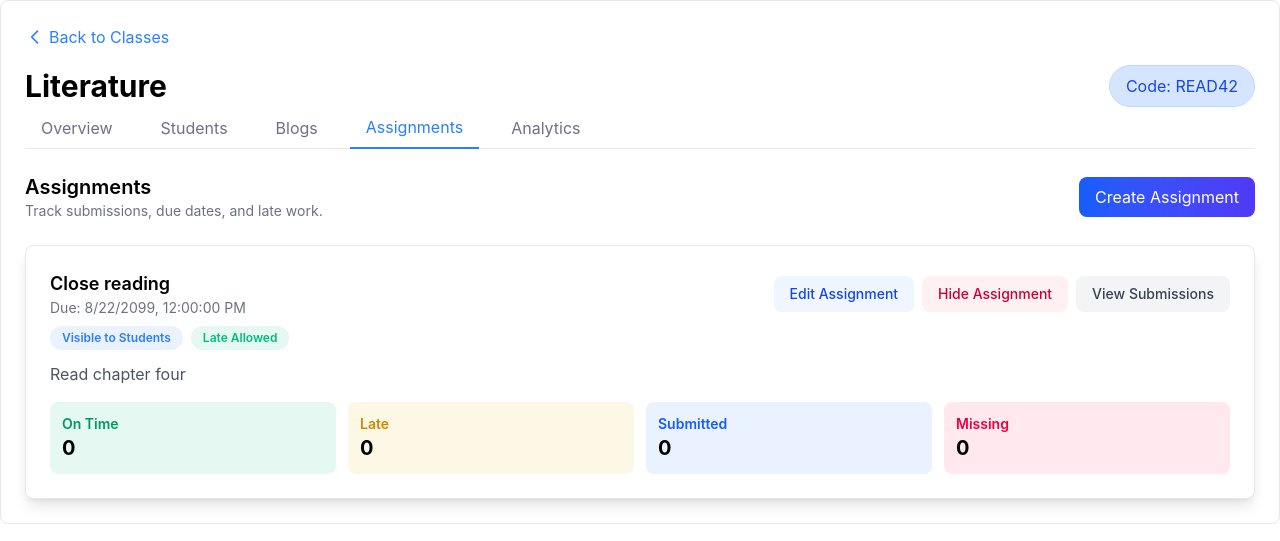
Test: hides an assignment with confirmation and lets its teacher restore it
The width and height of the screenshot is (1280, 541).
Click the button "Hide Assignment": (995, 294) [922, 276, 1068, 312]
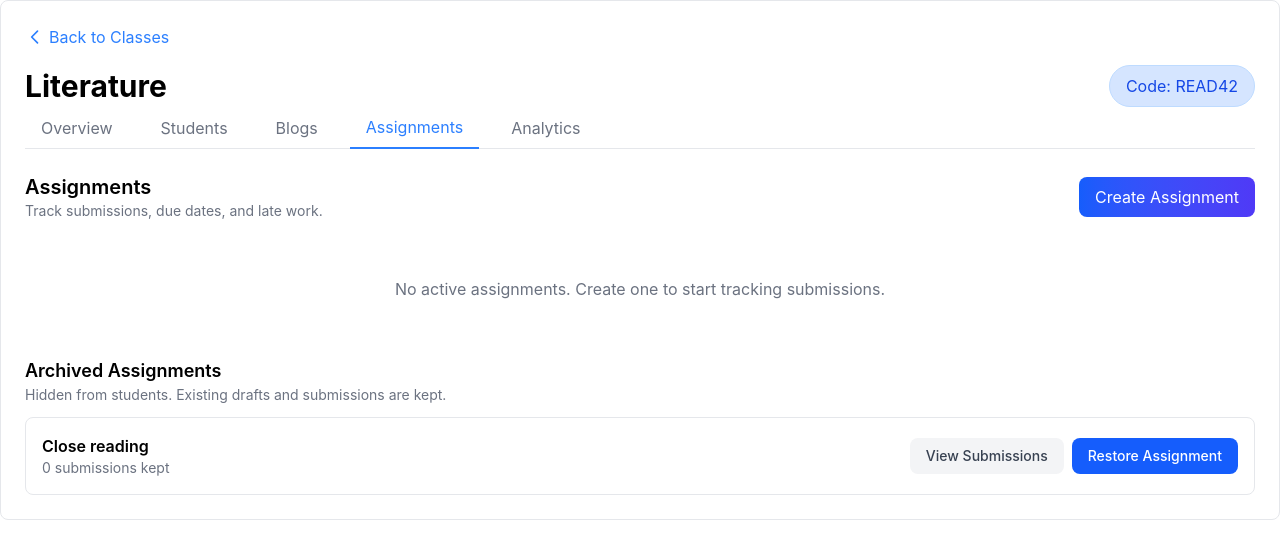
Result: the heading "Archived Assignments" is shown at [25, 360, 221, 381]
Click the button "Restore Assignment": (1155, 456) [1072, 438, 1238, 474]
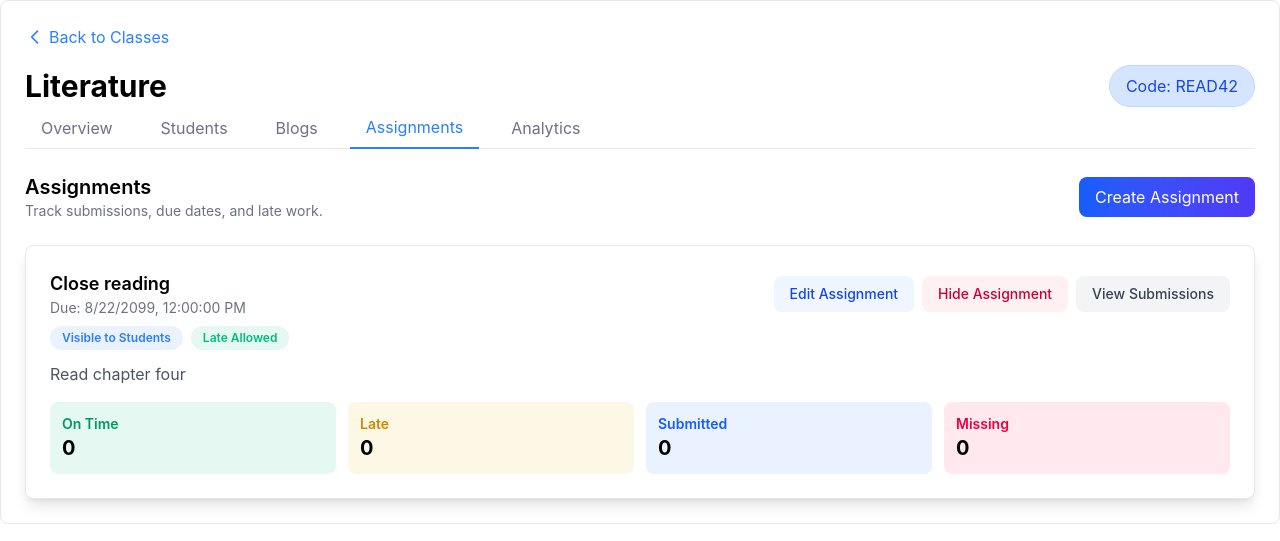
Result: the button "Hide Assignment" is shown at [922, 276, 1068, 312]
